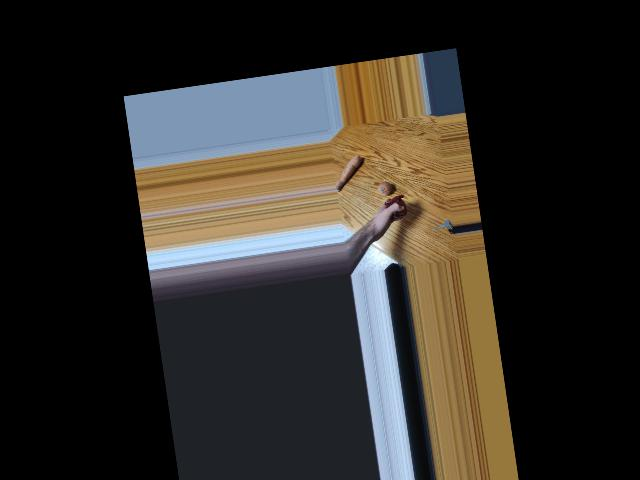onion: (377, 178, 393, 198)
